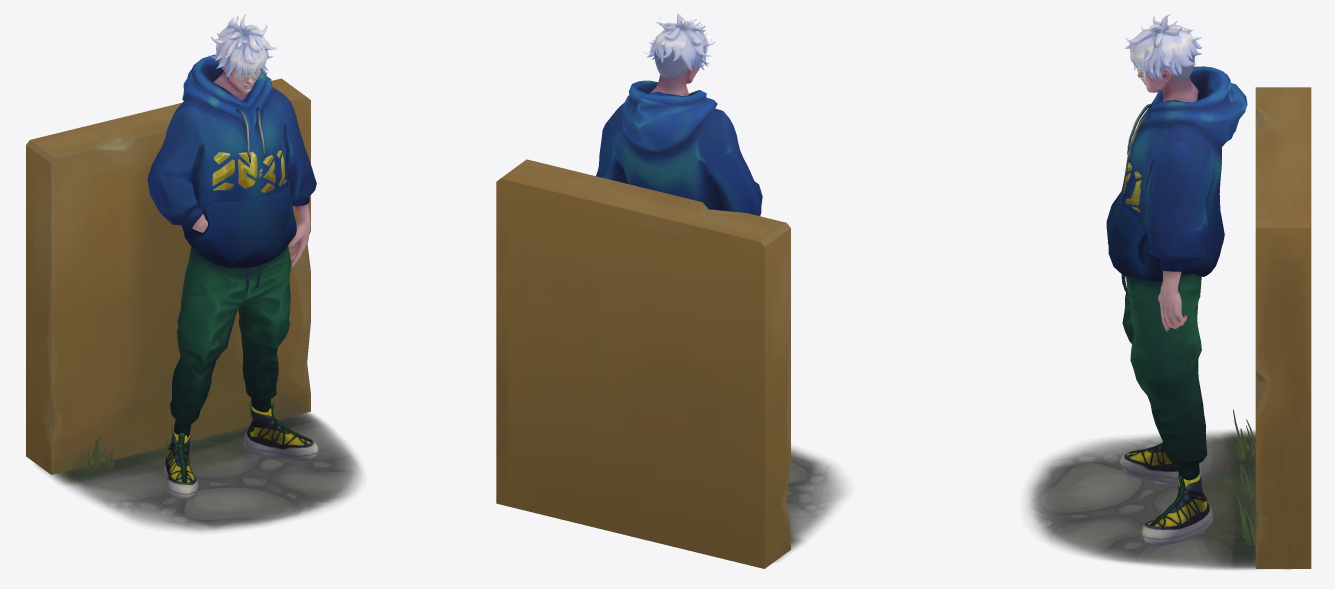
The model's file is gojo-jjk.glb.
3 views of the same model, side by side, from view 1: azimuth 30°, elevation 25°; view 2: azimuth 150°, elevation 25°; view 3: azimuth 270°, elevation 25° (orthographic). The views are drawn at different scales.
Visible parts, largest first — view 1: Back, HoodieLP.001, PantsLP.001, SneakersLP.001, HairsLP.001, Hands.001, BodyMain.001; view 2: Back, HoodieLP.001, HairsLP.001, BodyMain.001; view 3: Back, HoodieLP.001, PantsLP.001, SneakersLP.001, HairsLP.001, BodyMain.001, Hands.001.
Part boxes in pixels (x1,y1,x2,y2): Back: [26, 78, 362, 531]; HoodieLP.001: [147, 54, 316, 268]; PantsLP.001: [170, 245, 291, 437]; SneakersLP.001: [163, 403, 318, 499]; HairsLP.001: [210, 14, 276, 77]; Hands.001: [192, 204, 310, 266]; BodyMain.001: [213, 58, 260, 100]; Back: [496, 159, 846, 568]; HoodieLP.001: [596, 80, 762, 215]; HairsLP.001: [646, 14, 715, 73]; BodyMain.001: [649, 49, 700, 95]; Back: [1027, 87, 1311, 569]; HoodieLP.001: [1106, 66, 1247, 282]; PantsLP.001: [1122, 274, 1207, 479]; SneakersLP.001: [1120, 442, 1212, 545]; HairsLP.001: [1124, 14, 1202, 80]; BodyMain.001: [1137, 55, 1198, 102]; Hands.001: [1158, 270, 1186, 331].
Bounding box in the file's own units: 1.12 × 1.76 × 1.14.
Materials: 6 (5 with a texture image).
